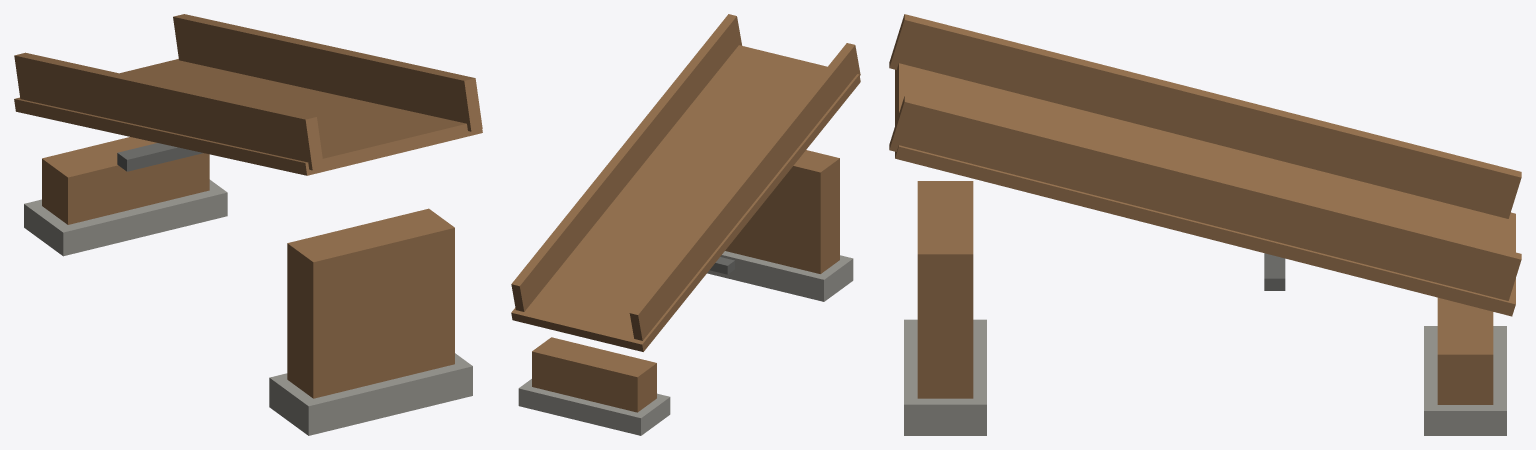
Rendered from vf_gravity_trough.glb.
The picture shows the model from 3 angles, left to right: view 1: azimuth 30°, elevation 25°; view 2: azimuth 150°, elevation 25°; view 3: azimuth 270°, elevation 25°; orthographic projection. The views are drawn at different scales.
Parts seen in each view (by area): view 1: Static_Oak, Static_Stone, Static_Iron; view 2: Static_Oak, Static_Stone; view 3: Static_Oak, Static_Stone, Static_Iron.
Part boxes in pixels (x1,y1,x2,y2): Static_Oak: (14, 14, 482, 398); Static_Stone: (24, 179, 472, 435); Static_Iron: (117, 143, 203, 171); Static_Oak: (511, 14, 860, 412); Static_Stone: (518, 251, 853, 435); Static_Oak: (889, 14, 1521, 404); Static_Stone: (904, 319, 1506, 435); Static_Iron: (1264, 253, 1285, 290).
Bounding box in the file's own units: 0.66 × 1.07 × 1.82.
